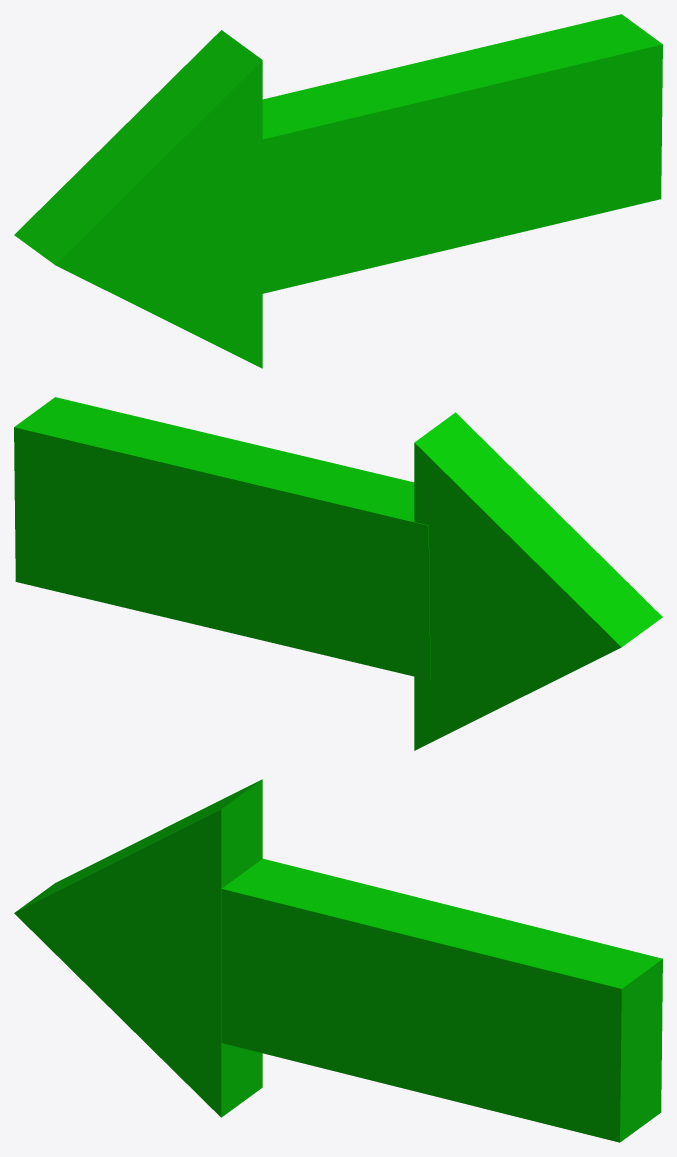
The model's file is speedup.fbx.
3 views of the same model, one above another, from view 1: azimuth 30°, elevation 25°; view 2: azimuth 150°, elevation 25°; view 3: azimuth 330°, elevation 25° (orthographic).
Parts seen in each view (by area): view 1: Box; view 2: Box; view 3: Box.
Part boxes in pixels (left/top/right/bottom): Box: left=14, top=14, right=662, bottom=368; Box: left=14, top=397, right=662, bottom=750; Box: left=14, top=779, right=662, bottom=1142.
Size of the model in its own units: 243 by 118 by 28.83.
1 material, 1 textured.
